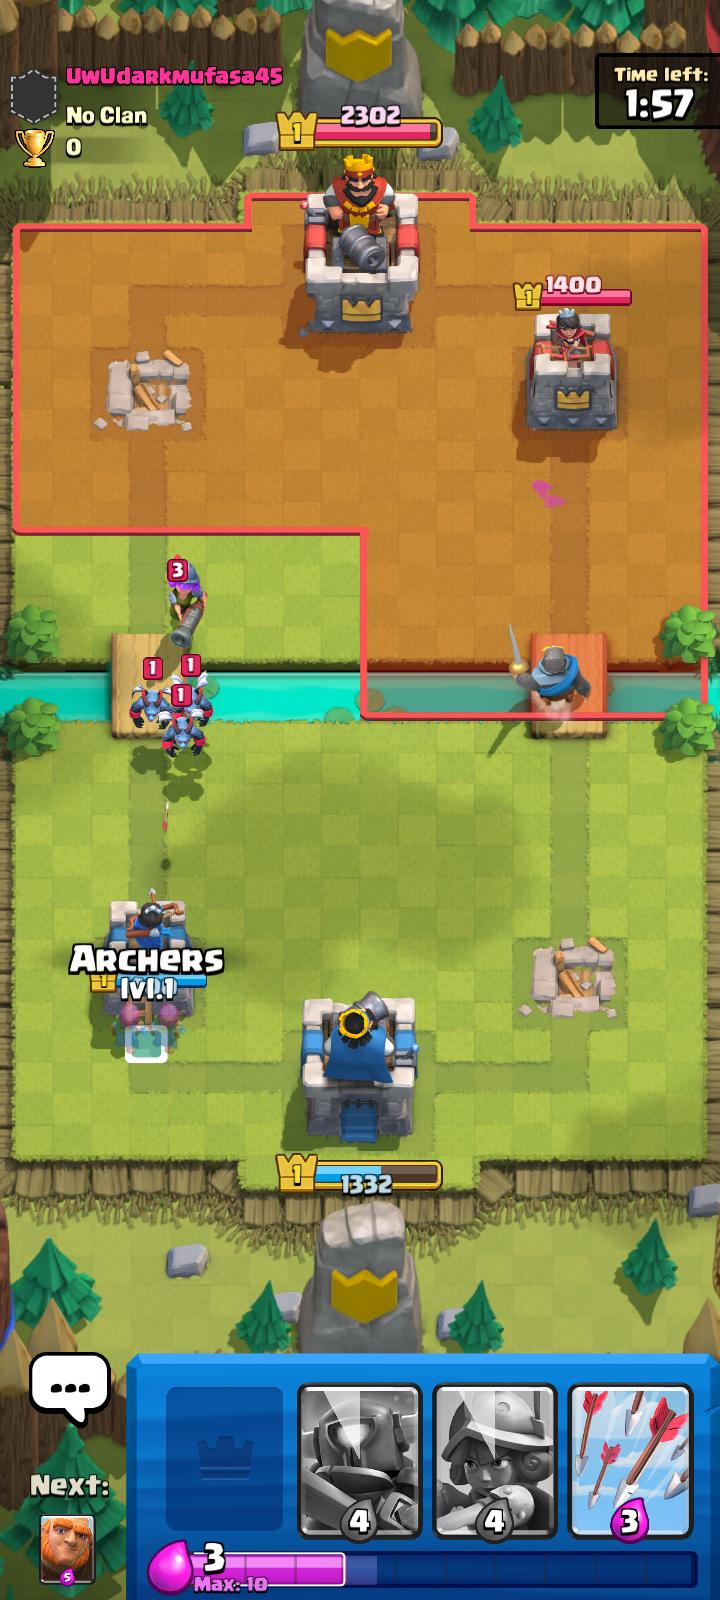archere: (152, 1007, 186, 1056)
chevalier: (502, 646, 600, 731)
gargouille: (159, 713, 197, 760), (133, 685, 166, 730), (185, 682, 216, 723), (136, 898, 168, 929)
